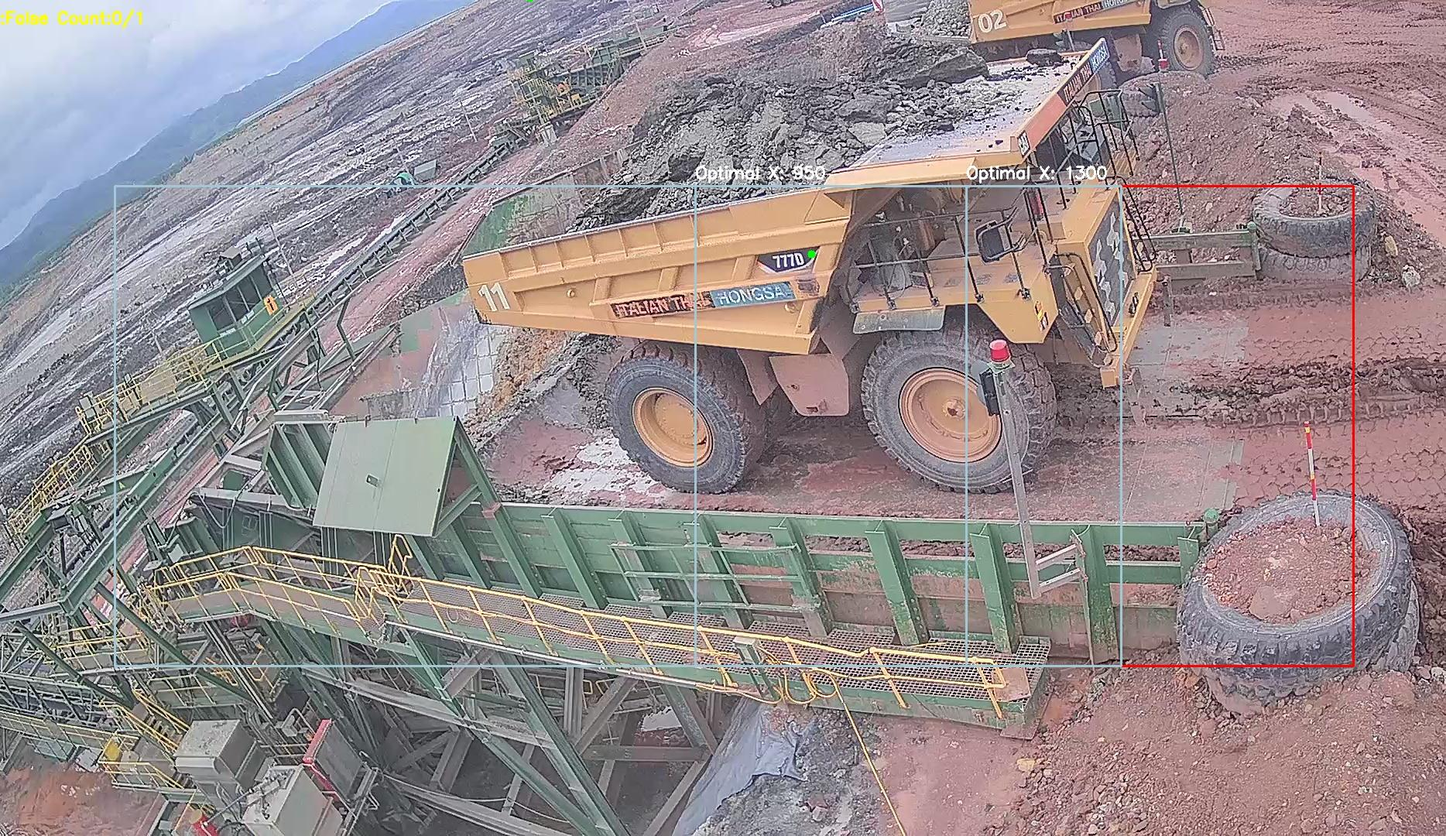company: (603, 276, 808, 325)
full_load: (612, 63, 876, 220)
mining_truck: (447, 29, 1197, 493)
tail_number: (470, 271, 520, 324)
truck_size: (753, 247, 821, 274)
